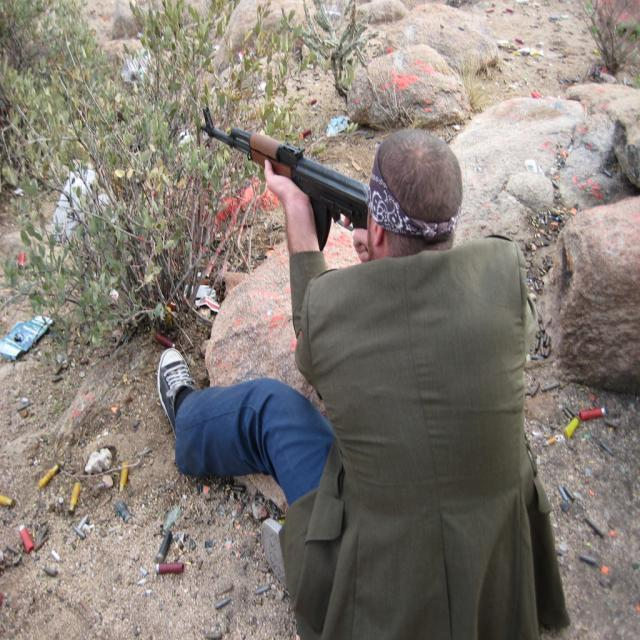weapon: (198, 103, 370, 252)
